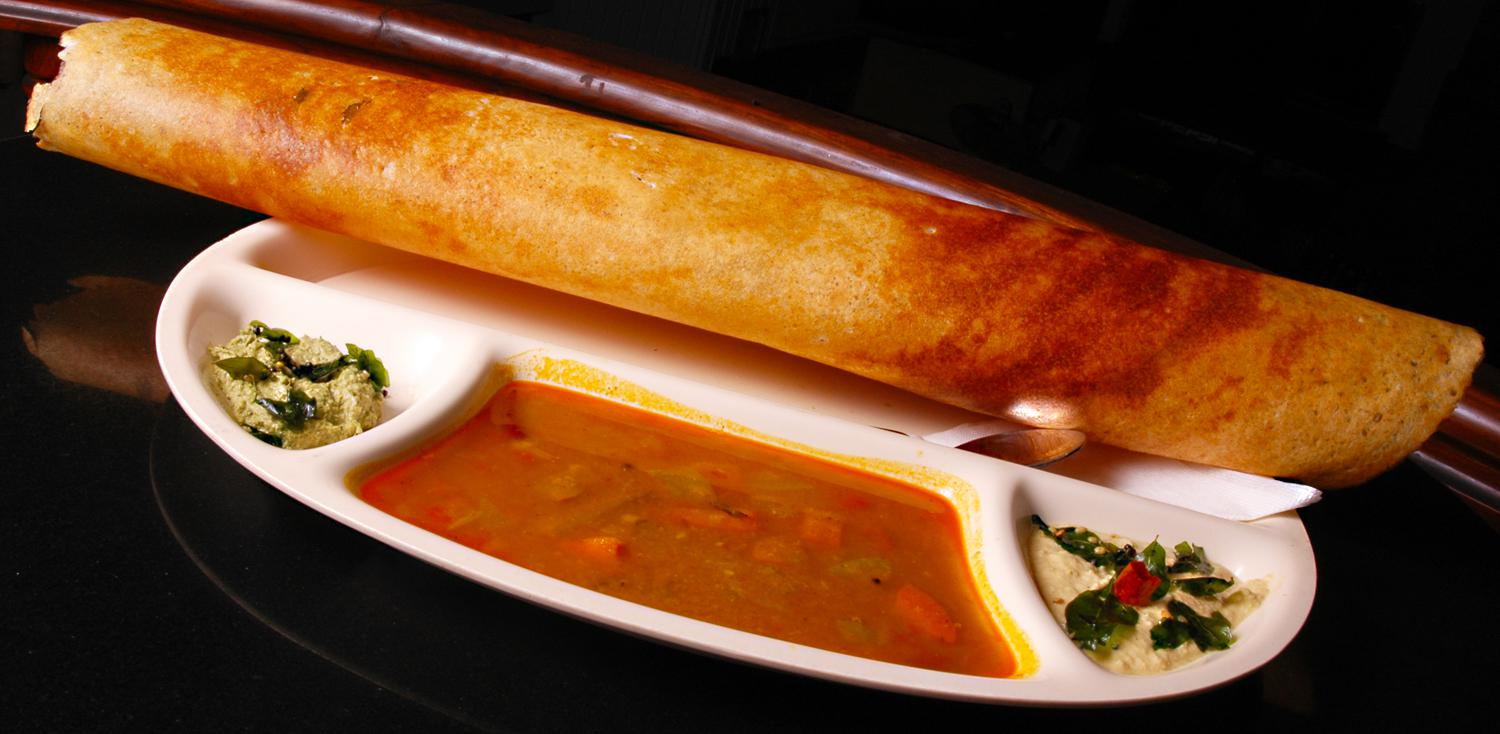dosa: (21, 3, 1482, 498)
